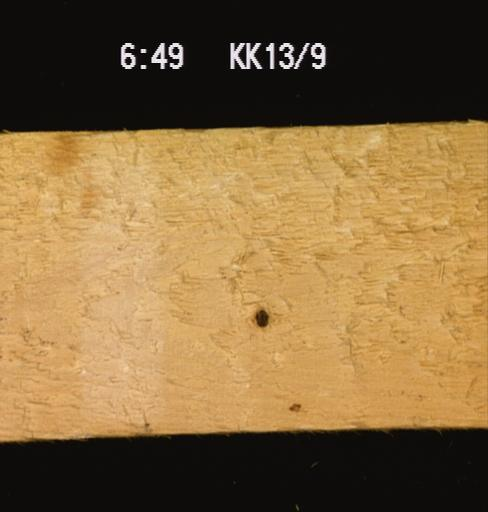dry_knot: (250, 305, 270, 329)
small_knot: (285, 397, 305, 414)
